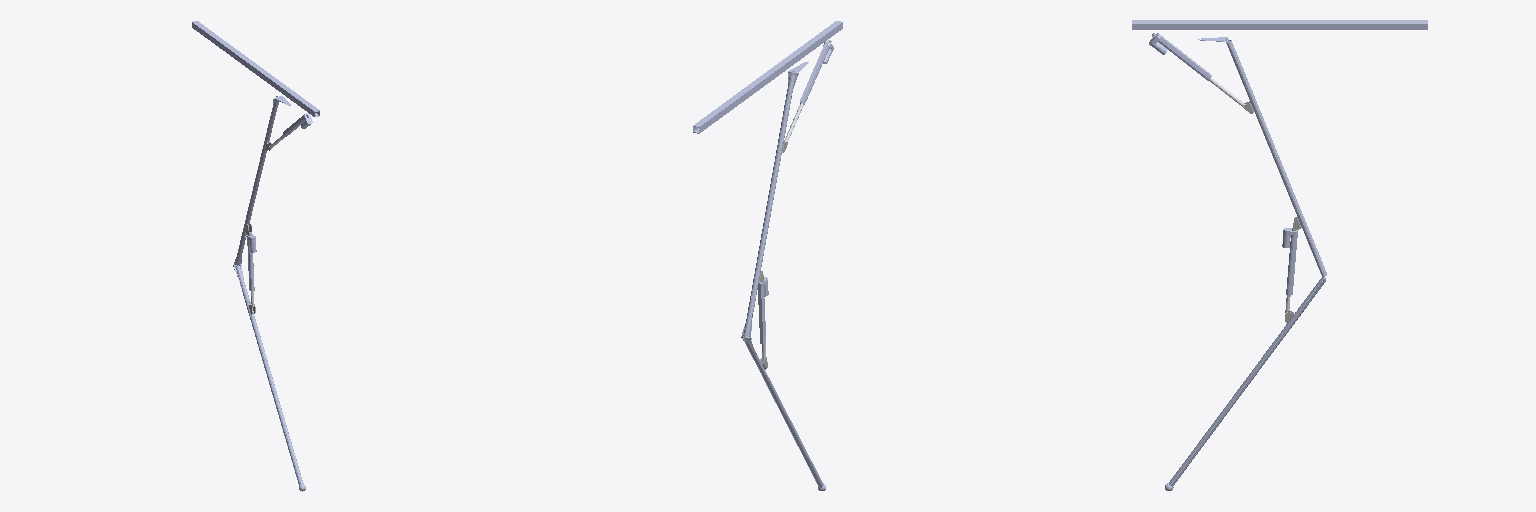
robot.urdf — one_leg:
<?xml version="1.0" encoding="utf-8"?>
<!-- This URDF was automatically created by SolidWorks to URDF Exporter! Originally created by Stephen Brawner ([email redacted]) 
     Commit Version: 1.6.0-4-g7f85cfe  Build Version: 1.6.7995.38578
     For more information, please see http://wiki.ros.org/sw_urdf_exporter -->
<robot
  name="one_leg">
  <link
    name="base_link">
    <inertial>
      <origin
        xyz="7.21644966006352E-16 -0.63286005182812 0.020052425270642"
        rpy="0 0 0" />
      <mass
        value="0.00526659250823866" />
      <inertia
        ixx="1.57167590827307E-06"
        ixy="6.98764716172858E-23"
        ixz="1.03549426819276E-22"
        iyy="1.66436600986042E-06"
        iyz="1.37354397942886E-07"
        izz="1.77521685073794E-06" />
    </inertial>
    <visual>
      <origin
        xyz="0 0 0"
        rpy="0 0 0" />
      <geometry>
        <mesh
          filename="package://one_leg/meshes/base_link.STL" />
      </geometry>
      <material
        name="">
        <color
          rgba="0.792156862745098 0.819607843137255 0.933333333333333 1" />
      </material>
    </visual>
    <collision>
      <origin
        xyz="0 0 0"
        rpy="0 0 0" />
      <geometry>
        <mesh
          filename="package://one_leg/meshes/base_link.STL" />
      </geometry>
    </collision>
  </link>
  <link
    name="tube_lower">
    <inertial>
      <origin
        xyz="-1.4622E-08 -0.0051305 -0.0075999"
        rpy="0 0 0" />
      <mass
        value="0.18507" />
      <inertia
        ixx="0.029708"
        ixy="1.9233E-09"
        ixz="-3.379E-10"
        iyy="0.020424"
        iyz="-0.013757"
        izz="0.0093211" />
    </inertial>
    <visual>
      <origin
        xyz="0 0 0"
        rpy="0 0 0" />
      <geometry>
        <mesh
          filename="package://one_leg/meshes/tube_lower.STL" />
      </geometry>
      <material
        name="">
        <color
          rgba="0.79216 0.81961 0.93333 1" />
      </material>
    </visual>
    <collision>
      <origin
        xyz="0 0 0"
        rpy="0 0 0" />
      <geometry>
        <mesh
          filename="package://one_leg/meshes/tube_lower.STL" />
      </geometry>
    </collision>
  </link>
  <joint
    name="tube_lower_j"
    type="fixed">
    <origin
      xyz="0 -0.23476 0.60998"
      rpy="0 0 0" />
    <parent
      link="base_link" />
    <child
      link="tube_lower" />
    <axis
      xyz="0 0 0" />
  </joint>
  <link
    name="bracket_LL">
    <inertial>
      <origin
        xyz="2.7756E-17 0.0082456 -0.028397"
        rpy="0 0 0" />
      <mass
        value="0.013935" />
      <inertia
        ixx="5.5018E-06"
        ixy="1.7825E-22"
        ixz="1.3611E-21"
        iyy="5.4749E-06"
        iyz="-4.727E-07"
        izz="3.2426E-06" />
    </inertial>
    <visual>
      <origin
        xyz="0 0 0"
        rpy="0 0 0" />
      <geometry>
        <mesh
          filename="package://one_leg/meshes/bracket_LL.STL" />
      </geometry>
      <material
        name="">
        <color
          rgba="0.74902 0.74902 0.74902 1" />
      </material>
    </visual>
    <collision>
      <origin
        xyz="0 0 0"
        rpy="0 0 0" />
      <geometry>
        <mesh
          filename="package://one_leg/meshes/bracket_LL.STL" />
      </geometry>
    </collision>
  </link>
  <joint
    name="bracket_LL_j"
    type="fixed">
    <origin
      xyz="0 0.20396 0.39752"
      rpy="0 0 0" />
    <parent
      link="tube_lower" />
    <child
      link="bracket_LL" />
    <axis
      xyz="0 0 0" />
  </joint>
  <link
    name="lin_lower_rod">
    <inertial>
      <origin
        xyz="4.7776E-08 6.4425E-05 0.00084681"
        rpy="0 0 0" />
      <mass
        value="0.084578" />
      <inertia
        ixx="0.00051388"
        ixy="1.0836E-11"
        ixz="-6.8794E-13"
        iyy="0.00051093"
        iyz="-3.8547E-05"
        izz="7.1698E-06" />
    </inertial>
    <visual>
      <origin
        xyz="0 0 0"
        rpy="0 0 0" />
      <geometry>
        <mesh
          filename="package://one_leg/meshes/lin_lower_rod.STL" />
      </geometry>
      <material
        name="">
        <color
          rgba="0.89412 0.91373 0.92941 1" />
      </material>
    </visual>
    <collision>
      <origin
        xyz="0 0 0"
        rpy="0 0 0" />
      <geometry>
        <mesh
          filename="package://one_leg/meshes/lin_lower_rod.STL" />
      </geometry>
    </collision>
  </link>
  <joint
    name="lin_lower_rod_j"
    type="revolute">
    <origin
      xyz="0 0.0097475 0.12813"
      rpy="0 0 0" />
    <parent
      link="bracket_LL" />
    <child
      link="lin_lower_rod" />
    <axis
      xyz="-1 0 0" />
    <limit
      lower="0.349"
      upper="-0.349"
      effort="10"
      velocity="2" />
  </joint>
  <link
    name="lin_lower_body">
    <inertial>
      <origin
        xyz="8.3267E-17 0.0065636 0.20895"
        rpy="0 0 0" />
      <mass
        value="0.30902" />
      <inertia
        ixx="0.0036475"
        ixy="1.0882E-20"
        ixz="-1.5673E-18"
        iyy="0.0035658"
        iyz="8.1104E-05"
        izz="0.00013212" />
    </inertial>
    <visual>
      <origin
        xyz="0 0 0"
        rpy="0 0 0" />
      <geometry>
        <mesh
          filename="package://one_leg/meshes/lin_lower_body.STL" />
      </geometry>
      <material
        name="">
        <color
          rgba="0.79216 0.81961 0.93333 1" />
      </material>
    </visual>
    <collision>
      <origin
        xyz="0 0 0"
        rpy="0 0 0" />
      <geometry>
        <mesh
          filename="package://one_leg/meshes/lin_lower_body.STL" />
      </geometry>
    </collision>
  </link>
  <joint
    name="lin_lower_body_j"
    type="prismatic">
    <origin
      xyz="0 0 0"
      rpy="0 0 0" />
    <parent
      link="lin_lower_rod" />
    <child
      link="lin_lower_body" />
    <axis
      xyz="0 0.075815 0.99712" />
    <limit
      lower="0.09"
      upper="-0.09"
      effort="1600"
      velocity="0.005" />
  </joint>
  <link
    name="bracket_LU">
    <inertial>
      <origin
        xyz="-8.32667268468867E-17 0.0145342780983798 0.0256538633585249"
        rpy="0 0 0" />
      <mass
        value="0.0137645141673134" />
      <inertia
        ixx="5.48133005963742E-06"
        ixy="1.45349255649419E-20"
        ixz="2.35230261669865E-21"
        iyy="5.57839537963951E-06"
        iyz="-8.71254324255324E-08"
        izz="3.11700050501289E-06" />
    </inertial>
    <visual>
      <origin
        xyz="0 0 0"
        rpy="0 0 0" />
      <geometry>
        <mesh
          filename="package://one_leg/meshes/bracket_LU.STL" />
      </geometry>
      <material
        name="">
        <color
          rgba="0.749019607843137 0.749019607843137 0.749019607843137 1" />
      </material>
    </visual>
    <collision>
      <origin
        xyz="0 0 0"
        rpy="0 0 0" />
      <geometry>
        <mesh
          filename="package://one_leg/meshes/bracket_LU.STL" />
      </geometry>
    </collision>
  </link>
  <joint
    name="bracket_LU_j"
    type="revolute">
    <origin
      xyz="0 0.025528 0.33557"
      rpy="0 0 0" />
    <parent
      link="lin_lower_body" />
    <child
      link="bracket_LU" />
    <axis
      xyz="1 0 0" />
    <limit
      lower="0.349"
      upper="-0.349"
      effort="10"
      velocity="2" />
  </joint>
  <link
    name="tube_upper_B">
    <inertial>
      <origin
        xyz="1.3931E-08 -0.00064262 0.0017303"
        rpy="0 0 0" />
      <mass
        value="0.18277" />
      <inertia
        ixx="0.028804"
        ixy="1.0256E-10"
        ixz="9.5576E-10"
        iyy="0.025316"
        iyz="0.0093895"
        izz="0.0035249" />
    </inertial>
    <visual>
      <origin
        xyz="0 0 0"
        rpy="0 0 0" />
      <geometry>
        <mesh
          filename="package://one_leg/meshes/tube_upper_B.STL" />
      </geometry>
      <material
        name="">
        <color
          rgba="0.79216 0.81961 0.93333 1" />
      </material>
    </visual>
    <collision>
      <origin
        xyz="0 0 0"
        rpy="0 0 0" />
      <geometry>
        <mesh
          filename="package://one_leg/meshes/tube_upper_B.STL" />
      </geometry>
    </collision>
  </link>
  <joint
    name="tube_upper_B_j"
    type="fixed">
    <origin
      xyz="0 -0.089245 0.39334"
      rpy="0 0 0" />
    <parent
      link="bracket_LU" />
    <child
      link="tube_upper_B" />
    <axis
      xyz="0 0 0" />
  </joint>
  <link
    name="leg_lower">
    <inertial>
      <origin
        xyz="-0.0004576 -0.018915 0.0022849"
        rpy="0 0 0" />
      <mass
        value="0.027338" />
      <inertia
        ixx="4.928E-05"
        ixy="-7.5523E-08"
        ixz="-1.3947E-07"
        iyy="4.3901E-05"
        iyz="-5.7619E-06"
        izz="1.5115E-05" />
    </inertial>
    <visual>
      <origin
        xyz="0 0 0"
        rpy="0 0 0" />
      <geometry>
        <mesh
          filename="package://one_leg/meshes/leg_lower.STL" />
      </geometry>
      <material
        name="">
        <color
          rgba="0.79216 0.81961 0.93333 1" />
      </material>
    </visual>
    <collision>
      <origin
        xyz="0 0 0"
        rpy="0 0 0" />
      <geometry>
        <mesh
          filename="package://one_leg/meshes/leg_lower.STL" />
      </geometry>
    </collision>
  </link>
  <joint
    name="leg_lower_j"
    type="revolute">
    <origin
      xyz="0.00059077 0.39035 0.58958"
      rpy="0 0 0" />
    <parent
      link="tube_lower" />
    <child
      link="leg_lower" />
    <axis
      xyz="-1 0 0" />
    <limit
      lower="0.349"
      upper="-0.349"
      effort="100"
      velocity="2" />
  </joint>
  <link
    name="tube_upper">
    <inertial>
      <origin
        xyz="1.3931E-08 -0.00064262 0.0017303"
        rpy="0 0 0" />
      <mass
        value="0.18277" />
      <inertia
        ixx="0.028804"
        ixy="1.0256E-10"
        ixz="9.5576E-10"
        iyy="0.025316"
        iyz="0.0093895"
        izz="0.0035249" />
    </inertial>
    <visual>
      <origin
        xyz="0 0 0"
        rpy="0 0 0" />
      <geometry>
        <mesh
          filename="package://one_leg/meshes/tube_upper.STL" />
      </geometry>
      <material
        name="">
        <color
          rgba="0.79216 0.81961 0.93333 1" />
      </material>
    </visual>
    <collision>
      <origin
        xyz="0 0 0"
        rpy="0 0 0" />
      <geometry>
        <mesh
          filename="package://one_leg/meshes/tube_upper.STL" />
      </geometry>
    </collision>
  </link>
  <joint
    name="tube_upper_j"
    type="fixed">
    <origin
      xyz="-0.00058975 -0.24036 0.66498"
      rpy="0 0 0" />
    <parent
      link="leg_lower" />
    <child
      link="tube_upper" />
    <axis
      xyz="0 0 0" />
  </joint>
  <link
    name="bracket_UL">
    <inertial>
      <origin
        xyz="-1.4155E-15 0.027917 -0.0098557"
        rpy="0 0 0" />
      <mass
        value="0.013955" />
      <inertia
        ixx="5.5162E-06"
        ixy="-4.1198E-22"
        ixz="-2.5902E-22"
        iyy="4.4531E-06"
        iyz="1.216E-06"
        izz="4.2791E-06" />
    </inertial>
    <visual>
      <origin
        xyz="0 0 0"
        rpy="0 0 0" />
      <geometry>
        <mesh
          filename="package://one_leg/meshes/bracket_UL.STL" />
      </geometry>
      <material
        name="">
        <color
          rgba="0.74902 0.74902 0.74902 1" />
      </material>
    </visual>
    <collision>
      <origin
        xyz="0 0 0"
        rpy="0 0 0" />
      <geometry>
        <mesh
          filename="package://one_leg/meshes/bracket_UL.STL" />
      </geometry>
    </collision>
  </link>
  <joint
    name="bracket_UL_J"
    type="fixed">
    <origin
      xyz="0 -0.16636 0.2948"
      rpy="0 0 0" />
    <parent
      link="tube_upper" />
    <child
      link="bracket_UL" />
    <axis
      xyz="0 0 0" />
  </joint>
  <link
    name="lin_upper_rod">
    <inertial>
      <origin
        xyz="-4.7776E-08 -0.00064279 0.00055503"
        rpy="0 0 0" />
      <mass
        value="0.084578" />
      <inertia
        ixx="0.00051388"
        ixy="7.1986E-12"
        ixz="8.1286E-12"
        iyy="0.00022191"
        iyz="0.00025209"
        izz="0.00029619" />
    </inertial>
    <visual>
      <origin
        xyz="0 0 0"
        rpy="0 0 0" />
      <geometry>
        <mesh
          filename="package://one_leg/meshes/lin_upper_rod.STL" />
      </geometry>
      <material
        name="">
        <color
          rgba="0.89412 0.91373 0.92941 1" />
      </material>
    </visual>
    <collision>
      <origin
        xyz="0 0 0"
        rpy="0 0 0" />
      <geometry>
        <mesh
          filename="package://one_leg/meshes/lin_upper_rod.STL" />
      </geometry>
    </collision>
  </link>
  <joint
    name="lin_upper_rod_j"
    type="revolute">
    <origin
      xyz="0 -0.09726 0.083981"
      rpy="0 0 0" />
    <parent
      link="bracket_UL" />
    <child
      link="lin_upper_rod" />
    <axis
      xyz="1 0 0" />
    <limit
      lower="0.349"
      upper="-0.349"
      effort="10"
      velocity="2" />
  </joint>
  <link
    name="lin_upper_body">
    <inertial>
      <origin
        xyz="4.996E-16 -0.19934 0.15983"
        rpy="0 0 0" />
      <mass
        value="0.30902" />
      <inertia
        ixx="0.0036475"
        ixy="-2.5461E-19"
        ixz="1.9211E-19"
        iyy="0.0012672"
        iyz="0.0016173"
        izz="0.0024308" />
    </inertial>
    <visual>
      <origin
        xyz="0 0 0"
        rpy="0 0 0" />
      <geometry>
        <mesh
          filename="package://one_leg/meshes/lin_upper_body.STL" />
      </geometry>
      <material
        name="">
        <color
          rgba="0.79216 0.81961 0.93333 1" />
      </material>
    </visual>
    <collision>
      <origin
        xyz="0 0 0"
        rpy="0 0 0" />
      <geometry>
        <mesh
          filename="package://one_leg/meshes/lin_upper_body.STL" />
      </geometry>
    </collision>
  </link>
  <joint
    name="lin_upper_body_j"
    type="prismatic">
    <origin
      xyz="0 0 0"
      rpy="0 0 0" />
    <parent
      link="lin_upper_rod" />
    <child
      link="lin_upper_body" />
    <axis
      xyz="0 -0.75688 0.65355" />
    <limit
      lower="0.09"
      upper="0.09"
      effort="1600"
      velocity="0.005" />
  </joint>
  <link
    name="bracket_UU">
    <inertial>
      <origin
        xyz="0 -0.0189596464258239 0.0227384747054926"
        rpy="0 0 0" />
      <mass
        value="0.013955365921019" />
      <inertia
        ixx="5.51624030349116E-06"
        ixy="-3.83973881484102E-22"
        ixz="7.82576461875349E-22"
        iyy="3.50642300774646E-06"
        iyz="8.64313890009256E-07"
        izz="5.22581549476594E-06" />
    </inertial>
    <visual>
      <origin
        xyz="0 0 0"
        rpy="0 0 0" />
      <geometry>
        <mesh
          filename="package://one_leg/meshes/bracket_UU.STL" />
      </geometry>
      <material
        name="">
        <color
          rgba="0.749019607843137 0.749019607843137 0.749019607843137 1" />
      </material>
    </visual>
    <collision>
      <origin
        xyz="0 0 0"
        rpy="0 0 0" />
      <geometry>
        <mesh
          filename="package://one_leg/meshes/bracket_UU.STL" />
      </geometry>
    </collision>
  </link>
  <joint
    name="bracket_UU_J"
    type="revolute">
    <origin
      xyz="0 -0.2899 0.25033"
      rpy="0 0 0" />
    <parent
      link="lin_upper_body" />
    <child
      link="bracket_UU" />
    <axis
      xyz="-1 0 0" />
    <limit
      lower="0.349"
      upper="-0.349"
      effort="10"
      velocity="2" />
  </joint>
  <link
    name="chassis_B">
    <inertial>
      <origin
        xyz="4.41137195178465E-06 0.000918359101978572 2.60202222651107E-05"
        rpy="0 0 0" />
      <mass
        value="0.6643231691487" />
      <inertia
        ixx="0.124497537684338"
        ixy="1.03440379129647E-07"
        ixz="3.29978112881104E-09"
        iyy="0.000272415804836354"
        iyz="1.06181136709903E-05"
        izz="0.124497811349338" />
    </inertial>
    <visual>
      <origin
        xyz="0 0 0"
        rpy="0 0 0" />
      <geometry>
        <mesh
          filename="package://one_leg/meshes/chassis_B.STL" />
      </geometry>
      <material
        name="">
        <color
          rgba="0.792156862745098 0.819607843137255 0.933333333333333 1" />
      </material>
    </visual>
    <collision>
      <origin
        xyz="0 0 0"
        rpy="0 0 0" />
      <geometry>
        <mesh
          filename="package://one_leg/meshes/chassis_B.STL" />
      </geometry>
    </collision>
  </link>
  <joint
    name="chassis__B_j"
    type="fixed">
    <origin
      xyz="0 0.6383 0.05635"
      rpy="0 0 0" />
    <parent
      link="bracket_UU" />
    <child
      link="chassis_B" />
    <axis
      xyz="0 0 0" />
  </joint>
  <link
    name="leg_upper">
    <inertial>
      <origin
        xyz="-0.00045795 -0.014191 -0.020409"
        rpy="0 0 0" />
      <mass
        value="0.027364" />
      <inertia
        ixx="4.9286E-05"
        ixy="6.9439E-08"
        ixz="-1.4126E-07"
        iyy="2.8634E-05"
        iyz="1.011E-05"
        izz="3.0388E-05" />
    </inertial>
    <visual>
      <origin
        xyz="0 0 0"
        rpy="0 0 0" />
      <geometry>
        <mesh
          filename="package://one_leg/meshes/leg_upper.STL" />
      </geometry>
      <material
        name="">
        <color
          rgba="0.79216 0.81961 0.93333 1" />
      </material>
    </visual>
    <collision>
      <origin
        xyz="0 0 0"
        rpy="0 0 0" />
      <geometry>
        <mesh
          filename="package://one_leg/meshes/leg_upper.STL" />
      </geometry>
    </collision>
  </link>
  <joint
    name="leg_upper_j"
    type="revolute">
    <origin
      xyz="0.00059009 -0.25204 0.66064"
      rpy="0 0 0" />
    <parent
      link="tube_upper" />
    <child
      link="leg_upper" />
    <axis
      xyz="1 0 0" />
    <limit
      lower="0.349"
      upper="-0.349"
      effort="100"
      velocity="2" />
  </joint>
  <link
    name="chassis">
    <inertial>
      <origin
        xyz="4.4114E-06 0.00091836 2.602E-05"
        rpy="0 0 0" />
      <mass
        value="0.66432" />
      <inertia
        ixx="0.1245"
        ixy="1.0344E-07"
        ixz="3.2998E-09"
        iyy="0.00027242"
        iyz="1.0618E-05"
        izz="0.1245" />
    </inertial>
    <visual>
      <origin
        xyz="0 0 0"
        rpy="0 0 0" />
      <geometry>
        <mesh
          filename="package://one_leg/meshes/chassis.STL" />
      </geometry>
      <material
        name="">
        <color
          rgba="0.79216 0.81961 0.93333 1" />
      </material>
    </visual>
    <collision>
      <origin
        xyz="0 0 0"
        rpy="0 0 0" />
      <geometry>
        <mesh
          filename="package://one_leg/meshes/chassis.STL" />
      </geometry>
    </collision>
  </link>
  <joint
    name="chassis_j"
    type="fixed">
    <origin
      xyz="-0.00059112 0.33681 0.024819"
      rpy="0 0 0" />
    <parent
      link="leg_upper" />
    <child
      link="chassis" />
    <axis
      xyz="0 0 0" />
  </joint>
</robot>

--- What the picture shows (computed from the rendered views, not written in the file) ---
Views: 3 orthographic renders of the robot side by side, from view 1: azimuth 30°, elevation 25°; view 2: azimuth 150°, elevation 25°; view 3: azimuth 270°, elevation 25°.
Robot: one_leg — 16 links, 15 joints (6 revolute, 2 prismatic, 7 fixed); root link base_link; default pose: all joints at 0 but 1 set to mid-range because 0 is outside their limits (lin_upper_body_j = 0.09).
Visible links, largest first — view 1: chassis_B, tube_lower, tube_upper_B; view 2: chassis_B, tube_upper_B, tube_lower; view 3: chassis_B, tube_lower, tube_upper_B, lin_upper_body, lin_lower_body.
Link boxes in pixels (left/top/right/bottom): chassis_B: left=192, top=21, right=319, bottom=116; tube_lower: left=236, top=266, right=303, bottom=485; tube_upper_B: left=235, top=96, right=278, bottom=265; chassis_B: left=693, top=21, right=842, bottom=133; tube_upper_B: left=743, top=74, right=794, bottom=336; tube_lower: left=744, top=340, right=823, bottom=487; chassis_B: left=1132, top=20, right=1427, bottom=29; tube_lower: left=1169, top=277, right=1325, bottom=486; tube_upper_B: left=1227, top=40, right=1326, bottom=276; lin_upper_body: left=1149, top=33, right=1211, bottom=80; lin_lower_body: left=1282, top=228, right=1297, bottom=295.
Size in the robot's own frame: 0.0579 by 1.5 by 2.63 metres.
Meshes: 16 distinct files referenced, 13 mesh visuals loaded (13 binary STL); not drawn: 3 (reference not matched to a file when rendering).
